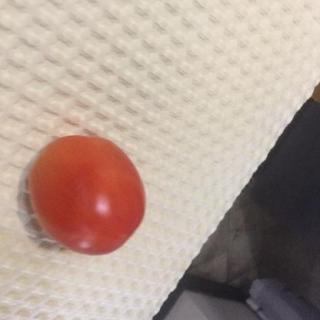Tomat: (15, 129, 154, 262)
